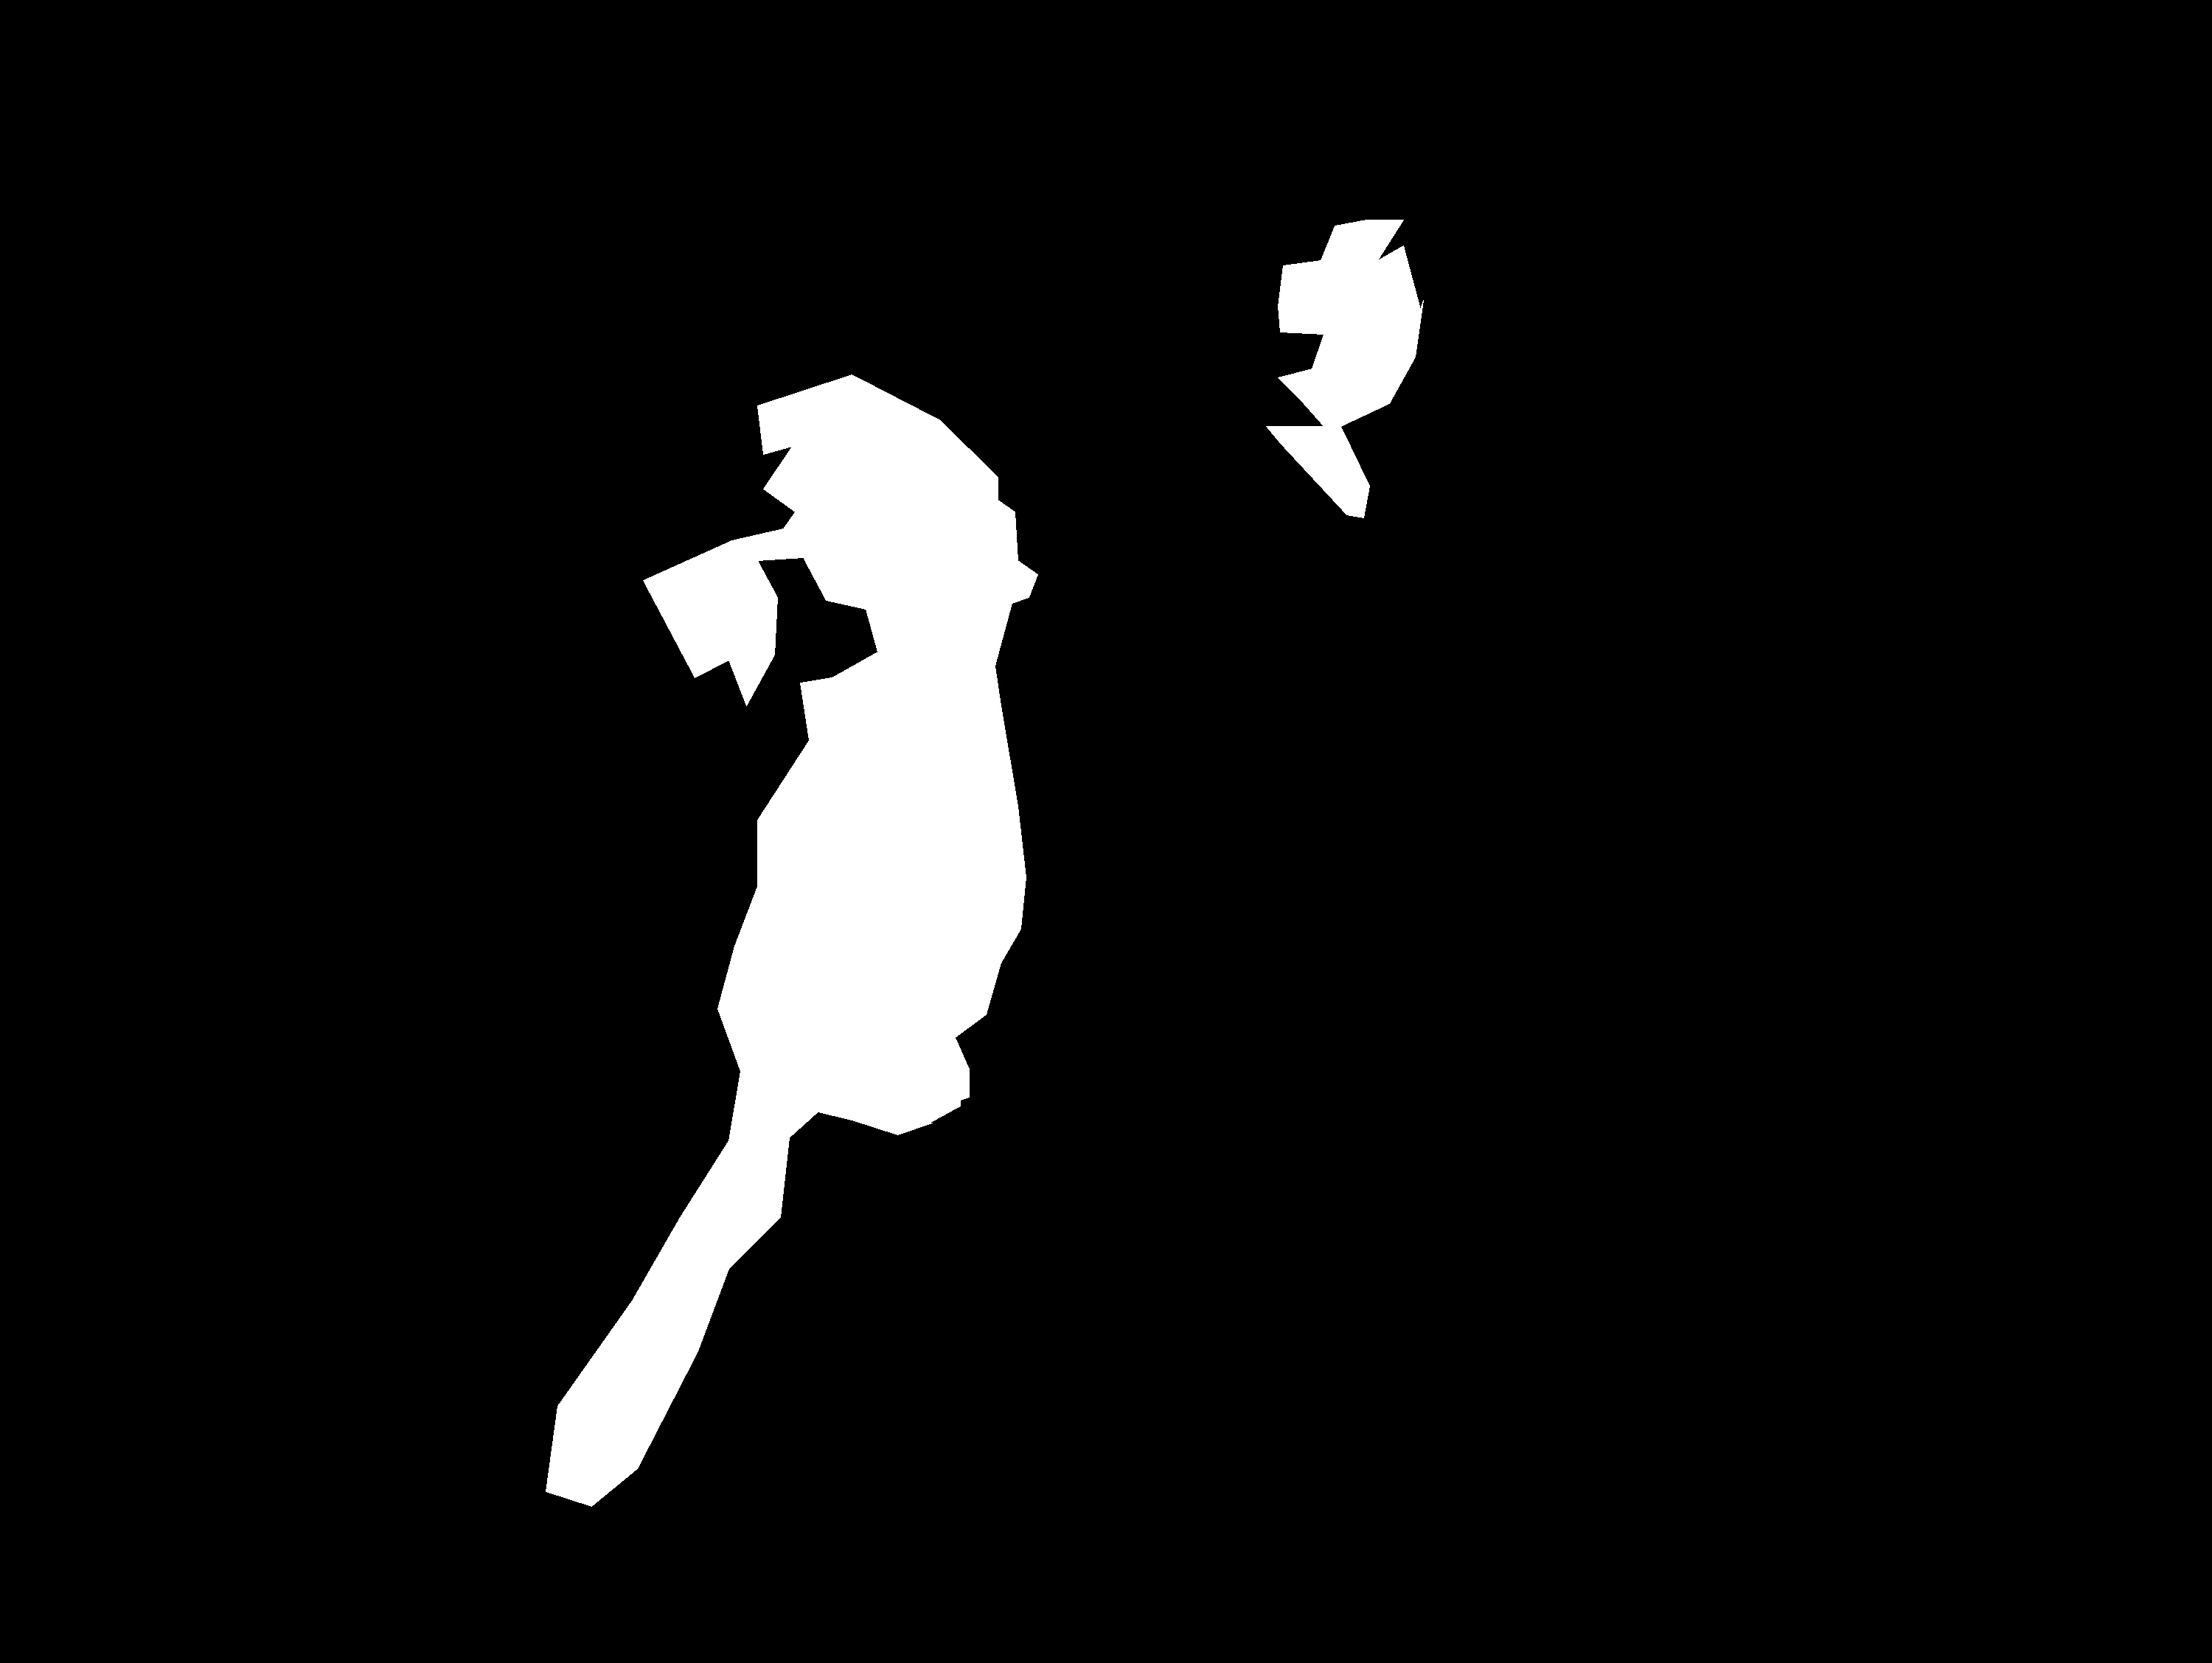Fire: (704, 599, 1034, 1120)
